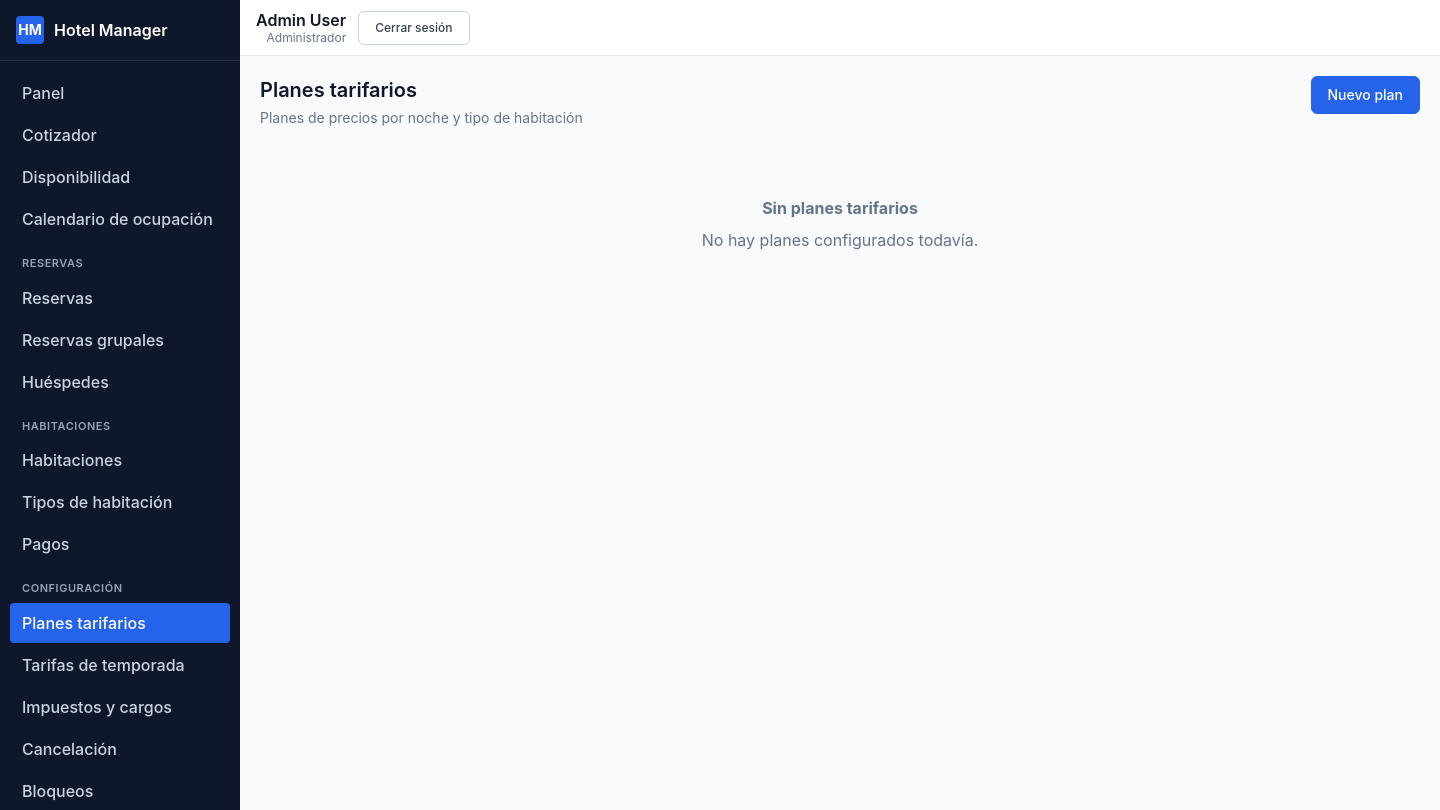
it: RatePlansPage › ADMIN puede crear un plan tarifario
Expected: the heading "Planes tarifarios" is shown, [260,78,417,102]
Click the button "Nuevo plan".
click(1365, 95)  # box [1310,76,1420,114]
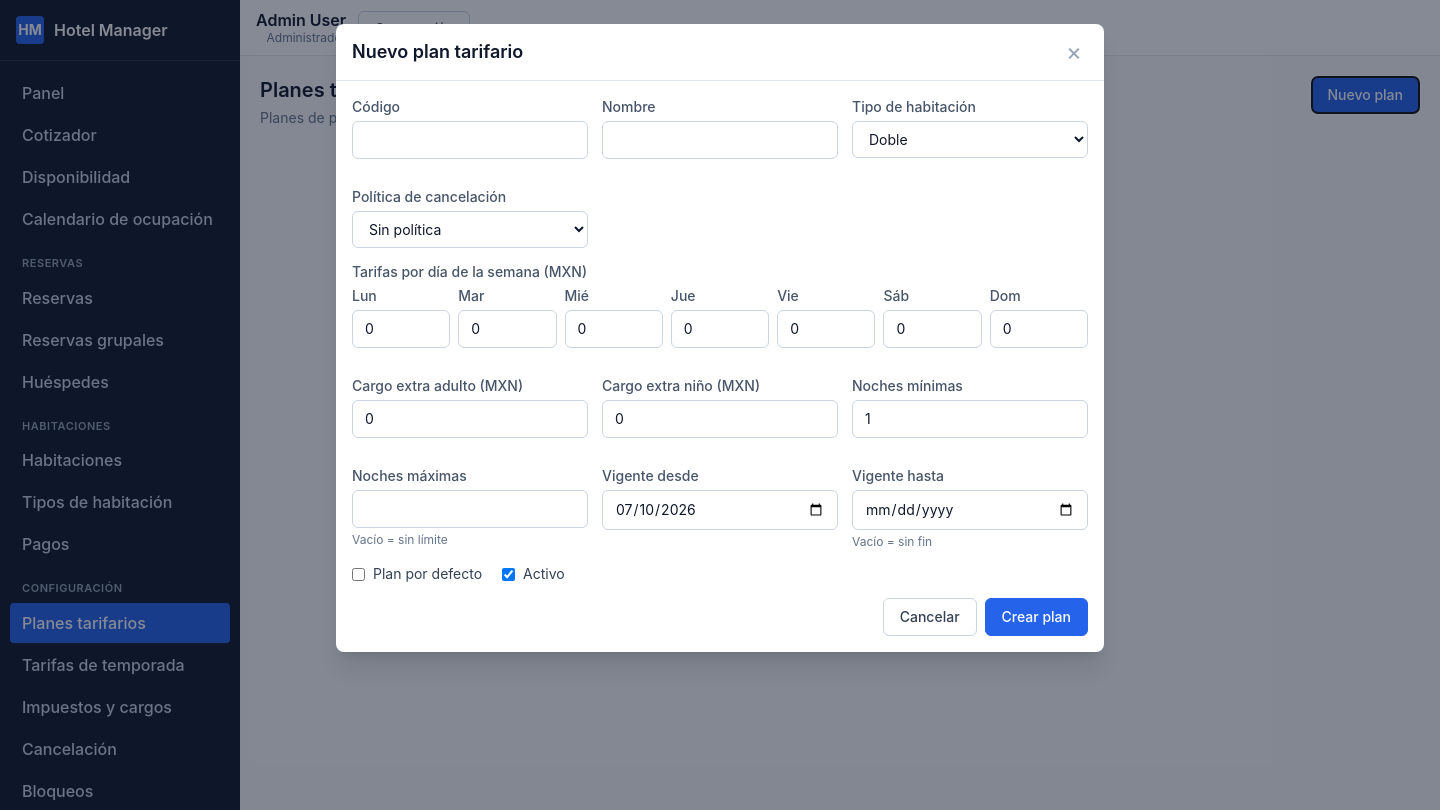
Type "STD" into the field labelled "Código".
click(470, 140); type("STD")  # box [352,121,588,159]
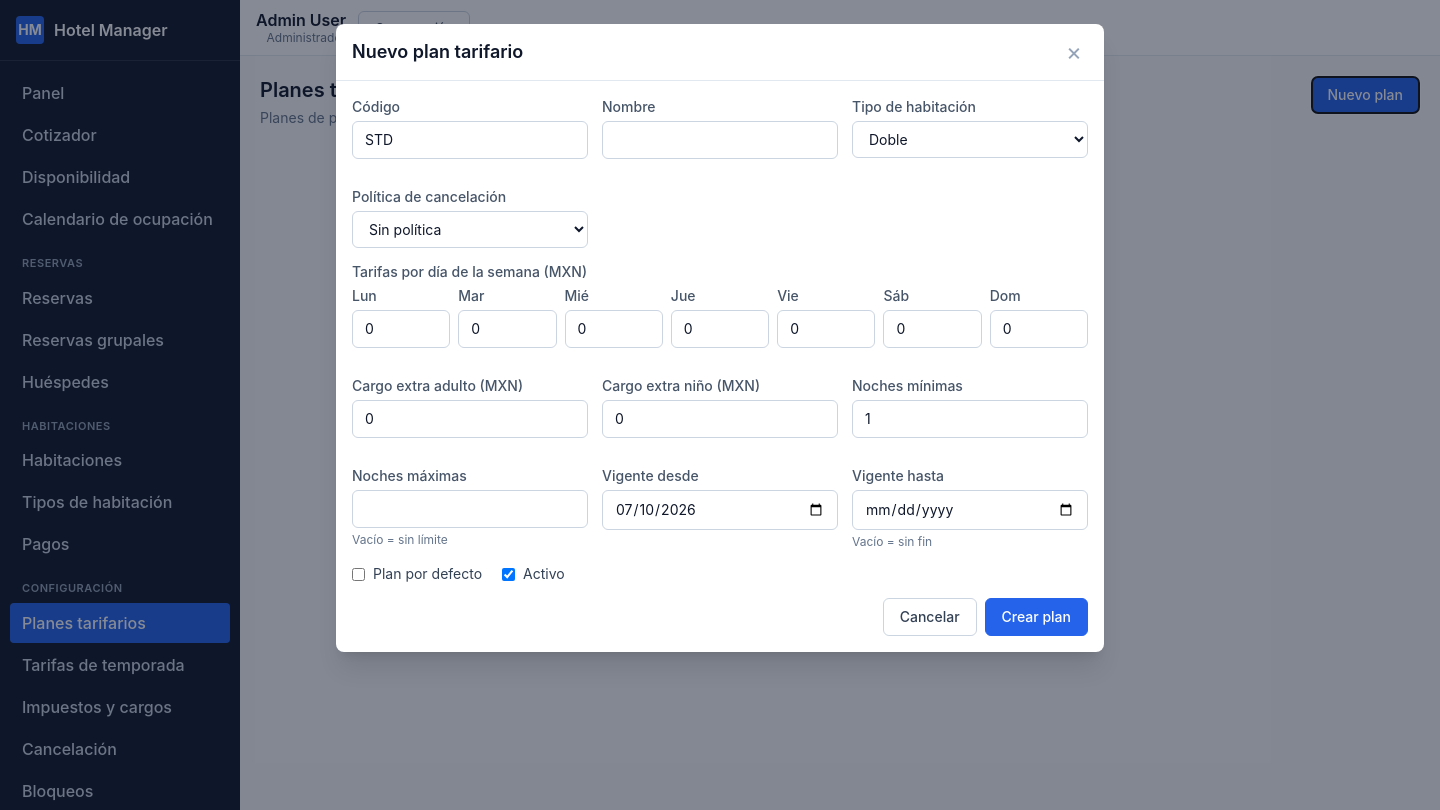
Type "Standard" into the field labelled "Nombre".
click(720, 140); type("Standard")  # box [602,121,838,159]
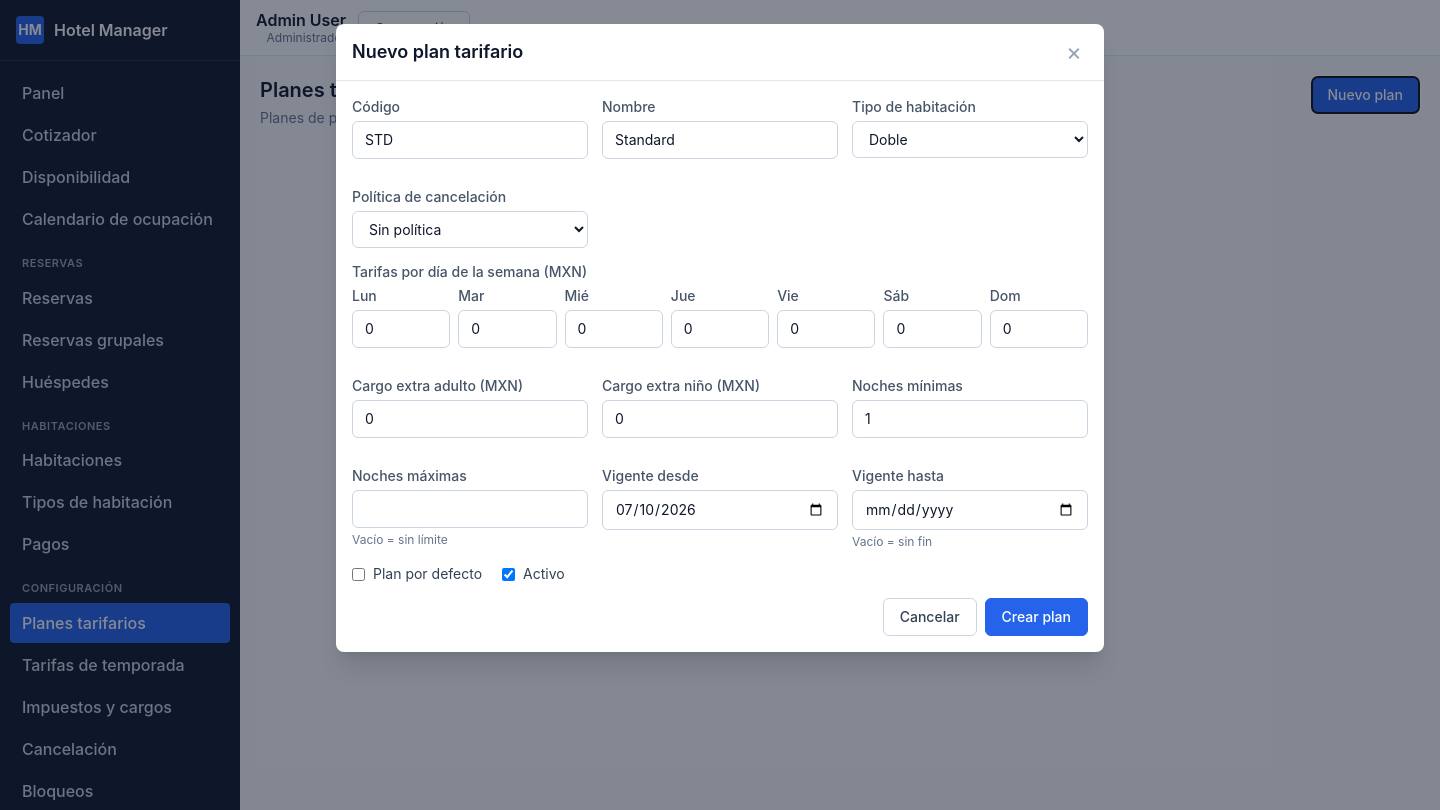
Select "Doble" in the dropdown labelled "Tipo de habitación" at (970, 140), box [852,121,1088,158]
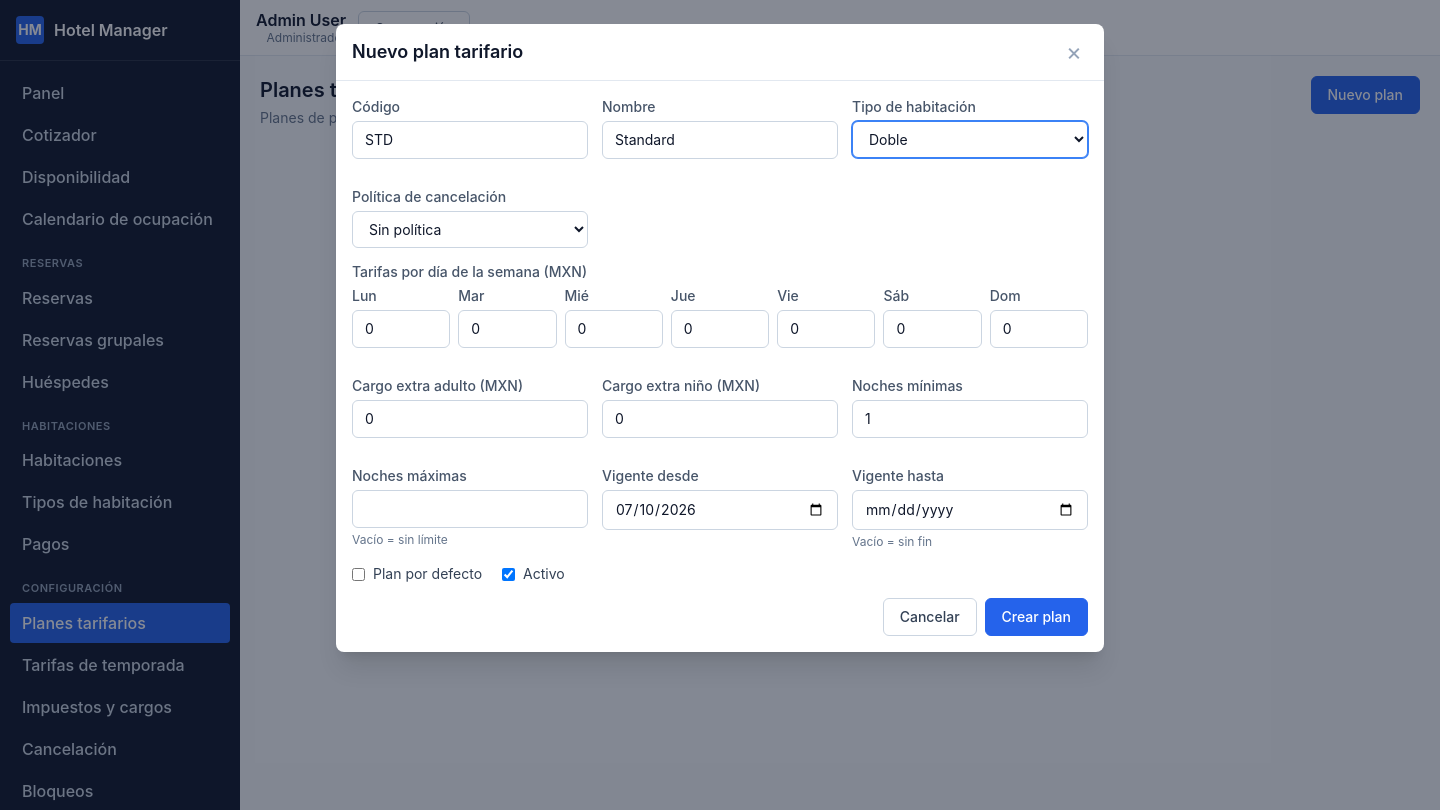
Click the button "Crear plan".
click(1036, 617)  # box [985,598,1088,636]
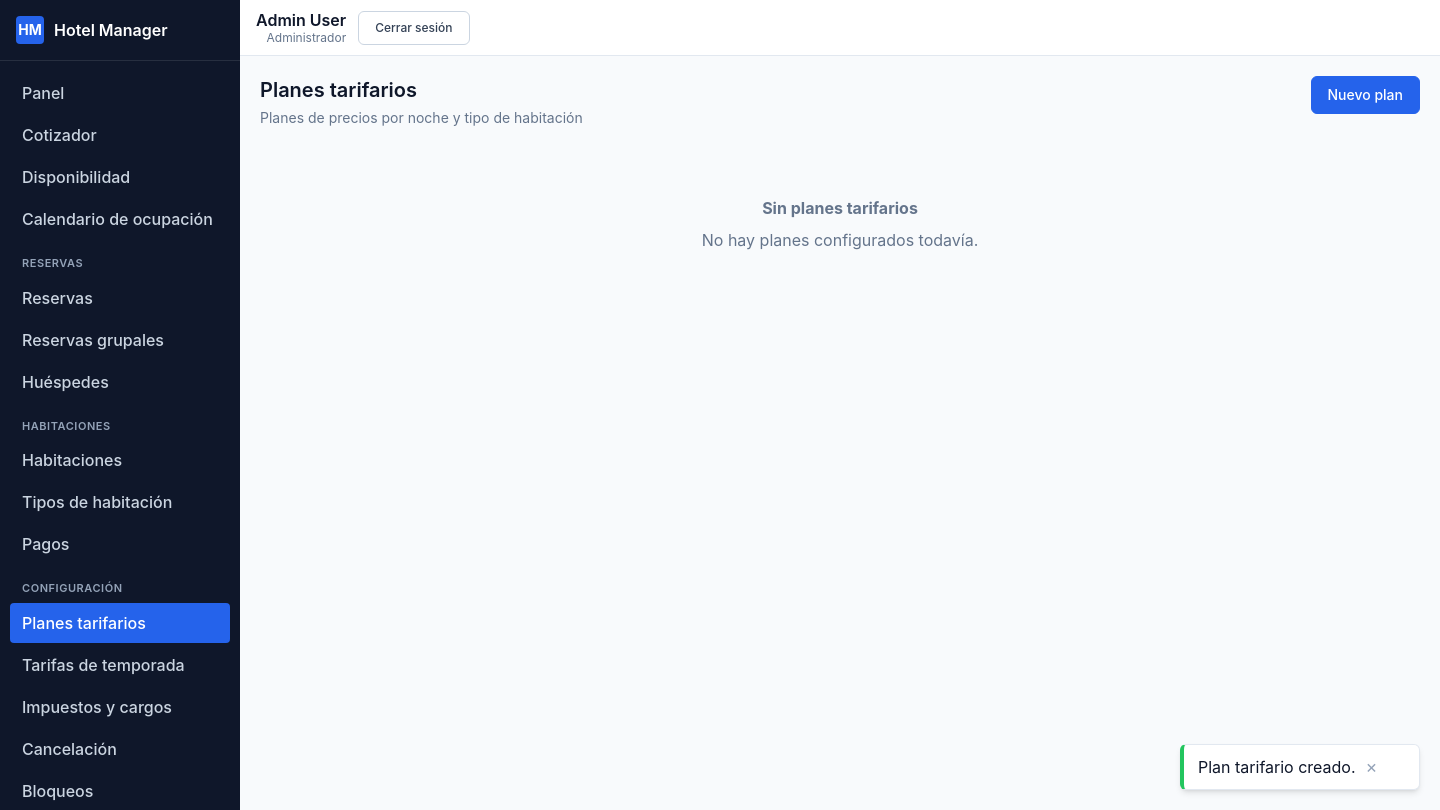
Now the text "Plan tarifario creado." is shown, box [1198,755,1356,779]
